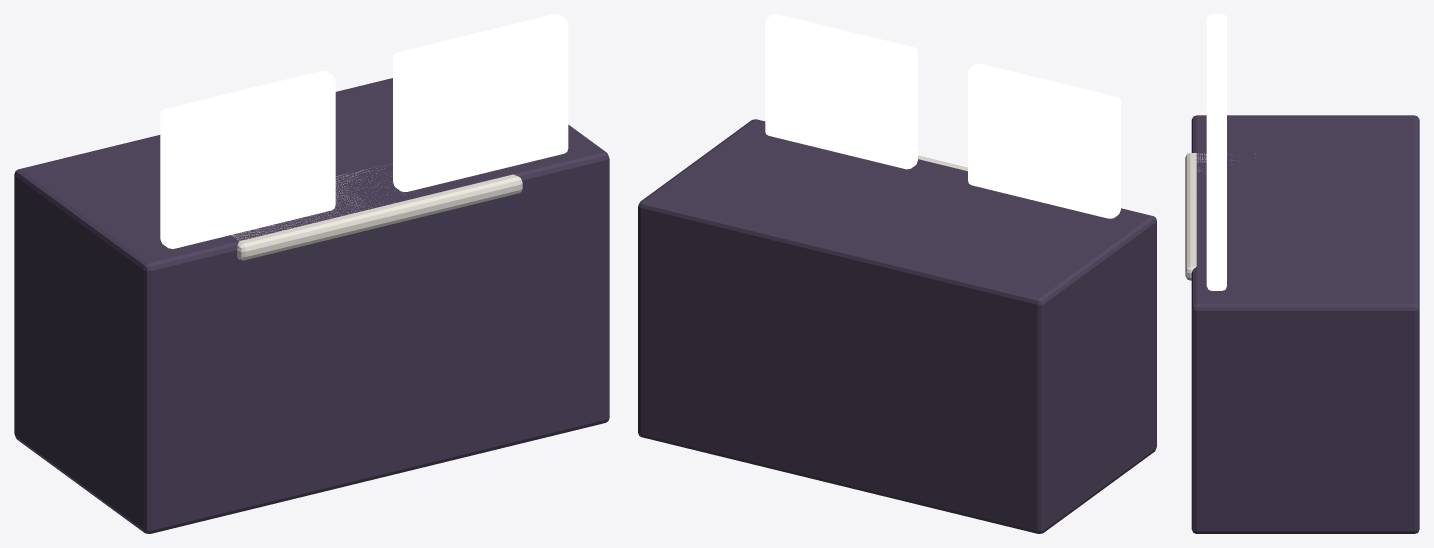
File: SM_Labor_Console.fbx
The picture shows the model from 3 angles, left to right: view 1: azimuth 30°, elevation 25°; view 2: azimuth 150°, elevation 25°; view 3: azimuth 270°, elevation 25°; orthographic projection. The views are drawn at different scales.
Visible parts, largest first — view 1: SM_Labor_Console; view 2: SM_Labor_Console; view 3: SM_Labor_Console.
Boxes of the visible parts, x1,y1,x2,y2 form: SM_Labor_Console: [14, 14, 609, 533]; SM_Labor_Console: [638, 14, 1156, 533]; SM_Labor_Console: [1185, 14, 1419, 533].
Size of the model in its own units: 1.8 by 1.5 by 0.925.
